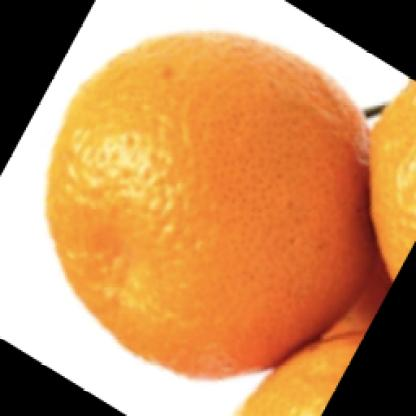fresh: (47, 31, 376, 376)
